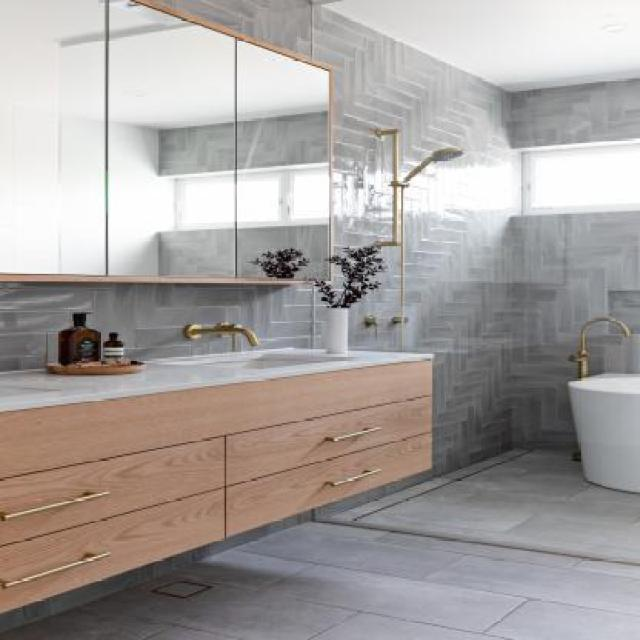floor: (2, 445, 640, 640)
